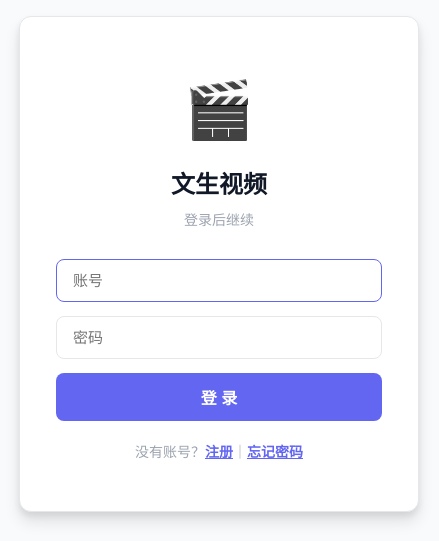
it: 模式切换 › 切换到忘记密码模式
Click the button "忘记密码" at point(275, 451), box 247,441 -> 303,461
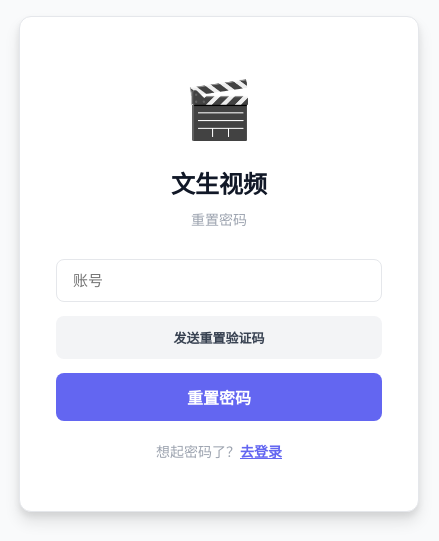
Expected: the button "发送重置验证码" is shown, 56,316 -> 382,359
